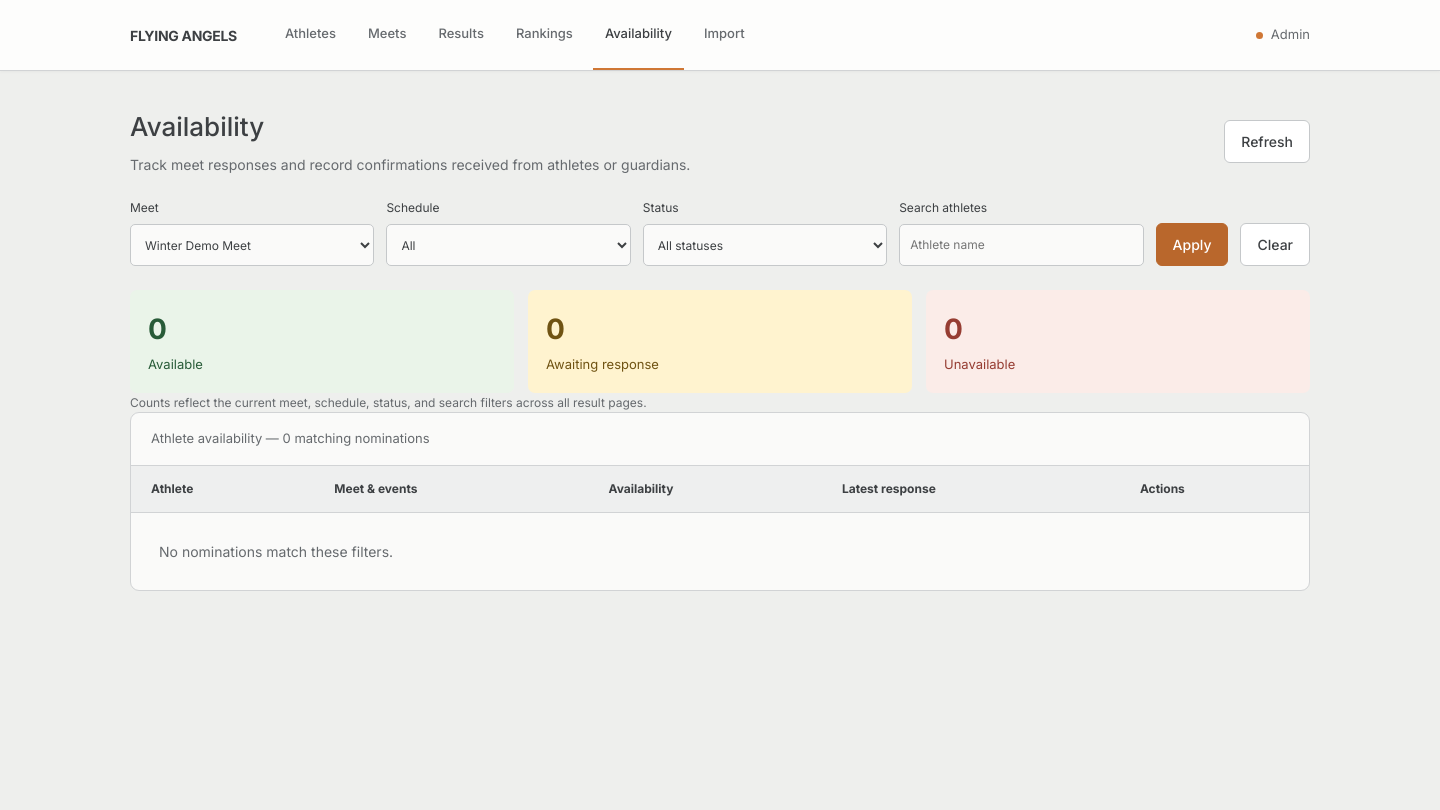
Test: explains an empty upcoming selection and displays its filtered zero summary
The image size is (1440, 810).
expect the table is shown: met, box [131, 413, 1309, 513]
Select "Upcoming" in the dropdown labelled "Schedule" at (509, 245), box [386, 224, 631, 266]
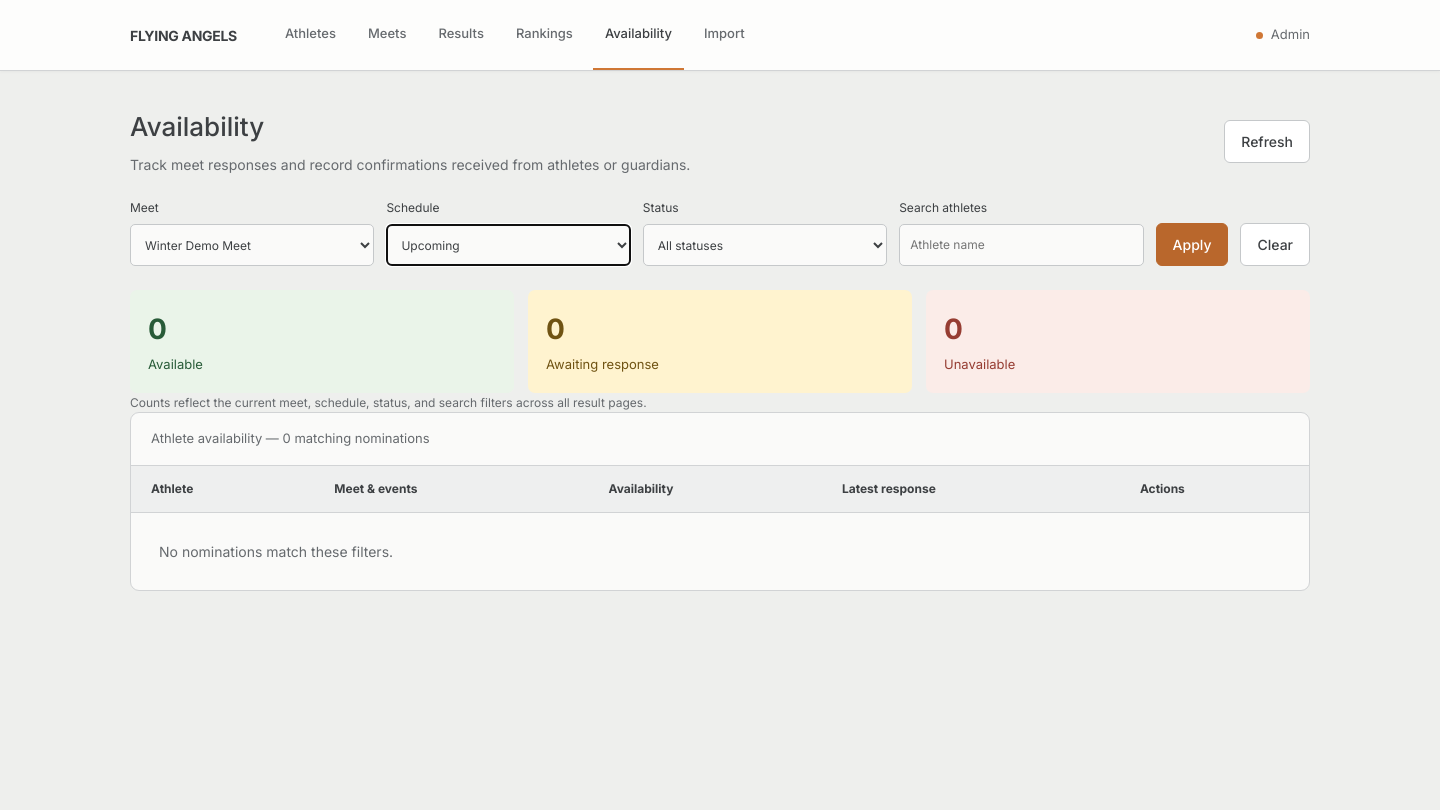
Click the button "Apply" at (1192, 244), box [1156, 223, 1228, 266]
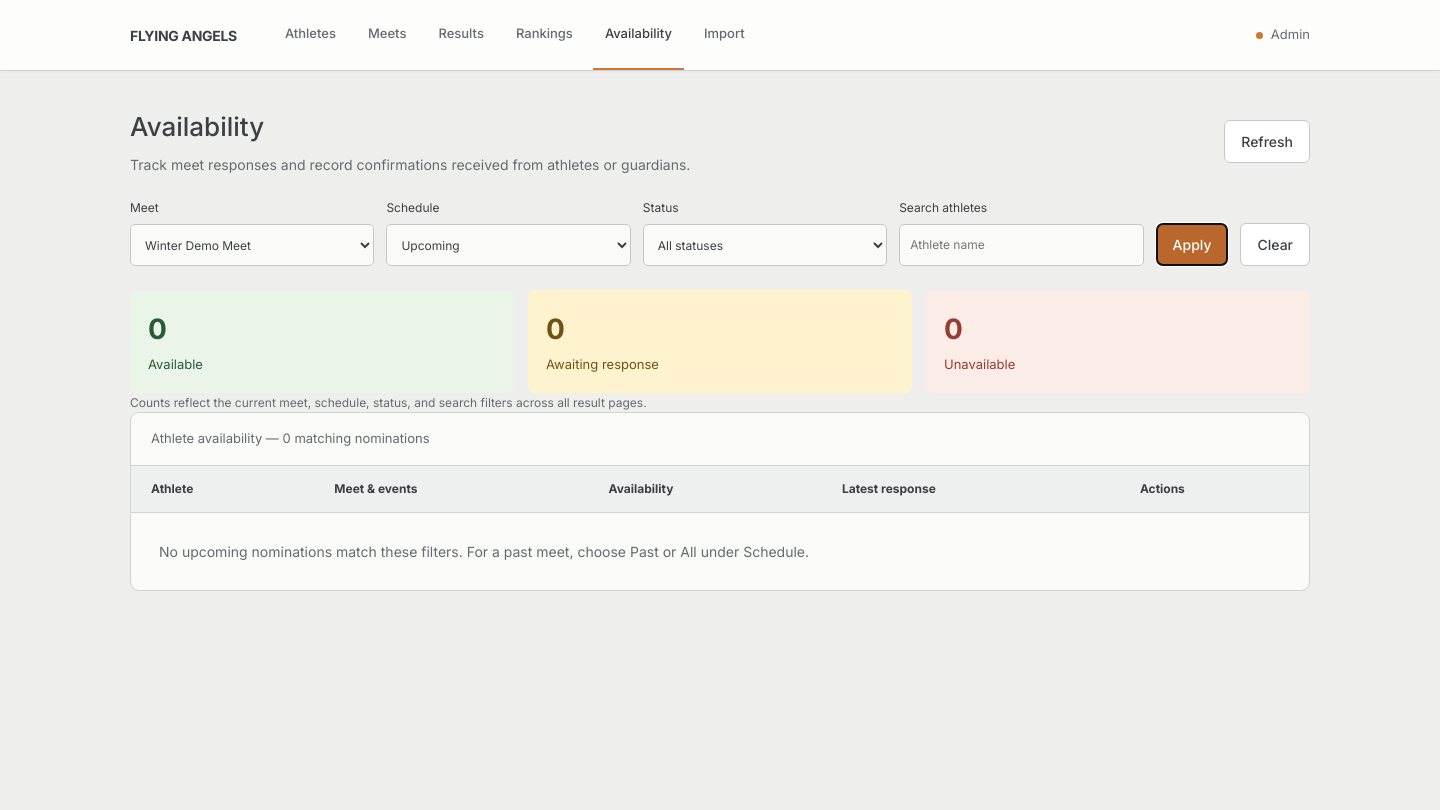
expect the element named "Meet response summary" reads "0 Available 0 Awaiting response 0 Unavailable": met, box [130, 290, 1310, 392]
expect the text "For a past meet, choose Past or All" is shown: met, box [159, 543, 809, 560]
